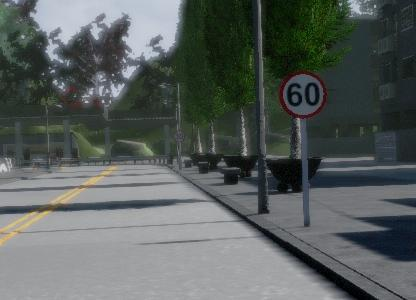Speed_60: (336, 57, 394, 115)
